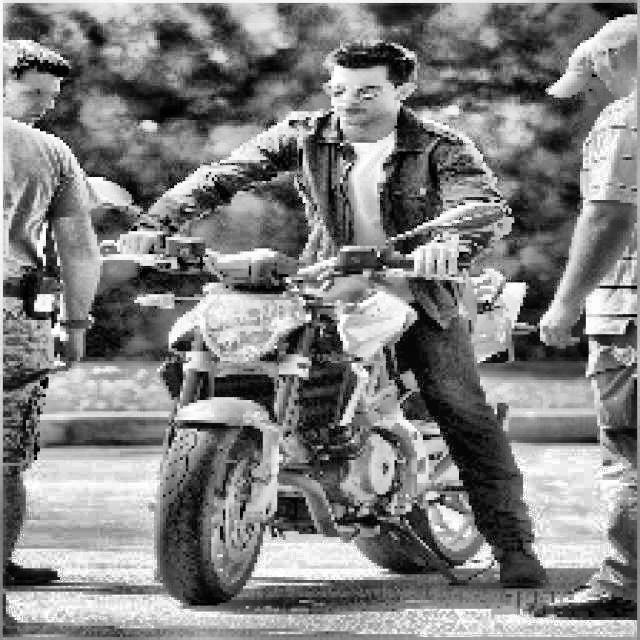motorcycle: (76, 167, 544, 598)
